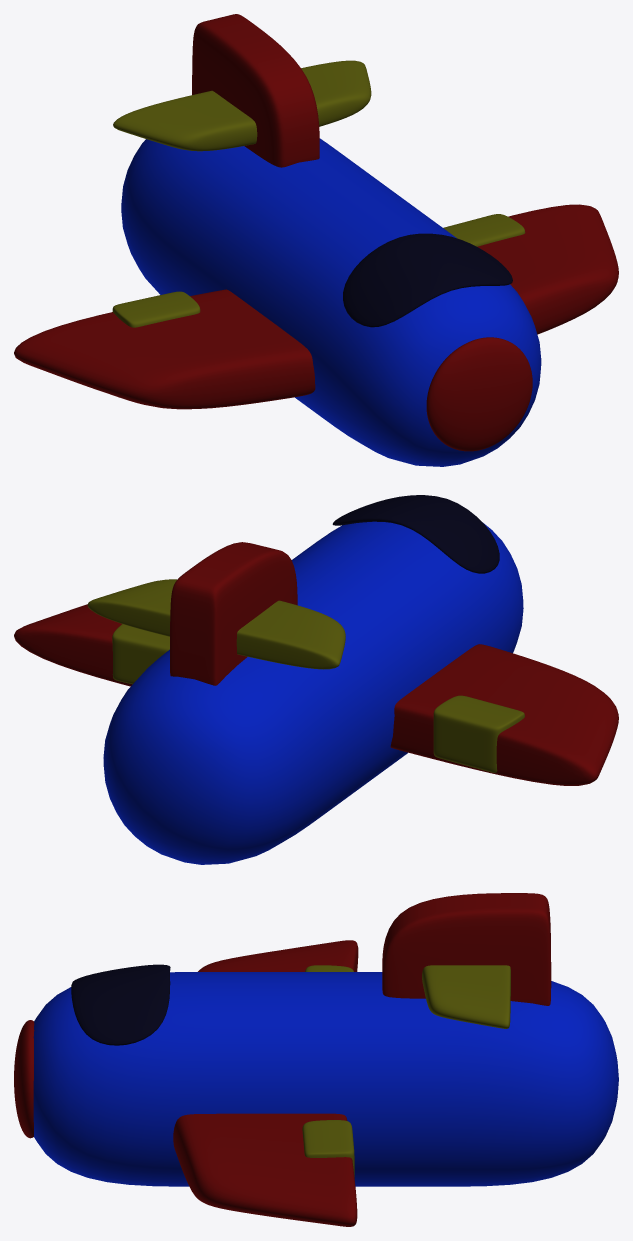
The model's file is Avion.obj.
3 views of the same model, one above another, from view 1: azimuth 30°, elevation 25°; view 2: azimuth 150°, elevation 25°; view 3: azimuth 270°, elevation 25° (orthographic). The views are drawn at different scales.
Parts seen in each view (by area): view 1: Cube.001, Cube.002, Cube.003, Cube.004, Cube.006, Cube.005, Sphere; view 2: Cube.001, Cube.002, Cube.003, Cube.004, Cube.005, Cube.006; view 3: Cube.001, Cube.006, Cube.004, Cube.003, Cube.005, Cube.002, Sphere.
Boxes of the visible parts, x1,y1,x2,y2 form: Cube.001: [121, 138, 541, 466]; Cube.002: [14, 289, 315, 409]; Cube.003: [112, 60, 525, 327]; Cube.004: [192, 14, 319, 167]; Cube.006: [477, 204, 618, 334]; Cube.005: [343, 233, 512, 327]; Sphere: [426, 337, 532, 451]; Cube.001: [103, 521, 523, 864]; Cube.002: [390, 644, 618, 785]; Cube.003: [87, 579, 524, 772]; Cube.004: [170, 542, 297, 685]; Cube.005: [332, 495, 499, 573]; Cube.006: [14, 604, 132, 686]; Cube.001: [33, 972, 618, 1186]; Cube.006: [173, 1113, 357, 1226]; Cube.004: [382, 893, 551, 1005]; Cube.003: [302, 965, 510, 1176]; Cube.005: [71, 964, 170, 1045]; Cube.002: [198, 940, 358, 971]; Sphere: [14, 1020, 34, 1138].
Bounding box in the file's own units: 1.66 × 0.7725 × 1.54.
